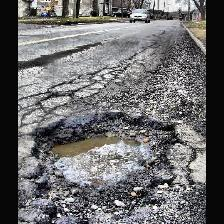pothole: (27, 110, 178, 224)
